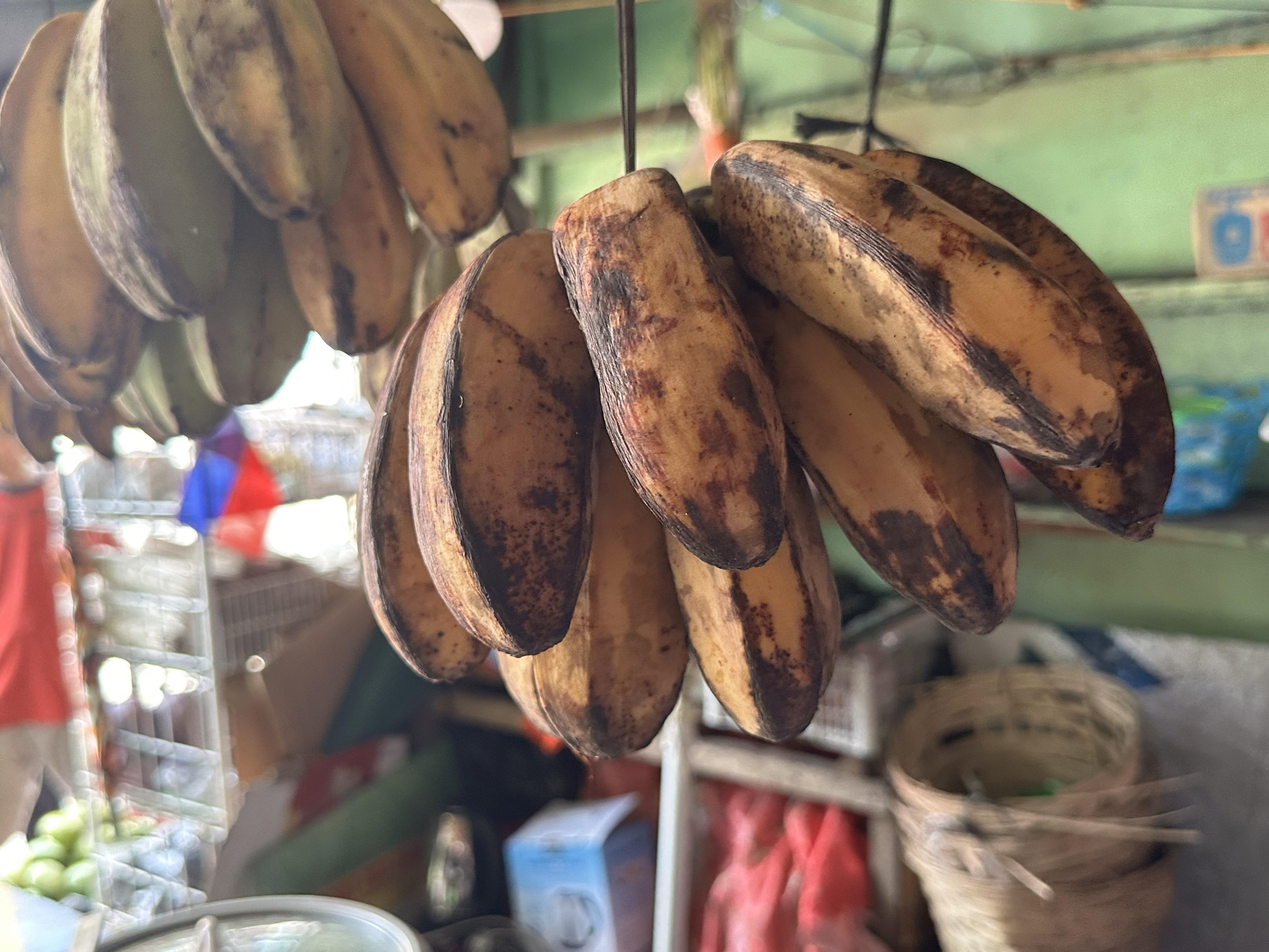ripe: (360, 141, 1173, 757)
underripe: (0, 0, 512, 461)
